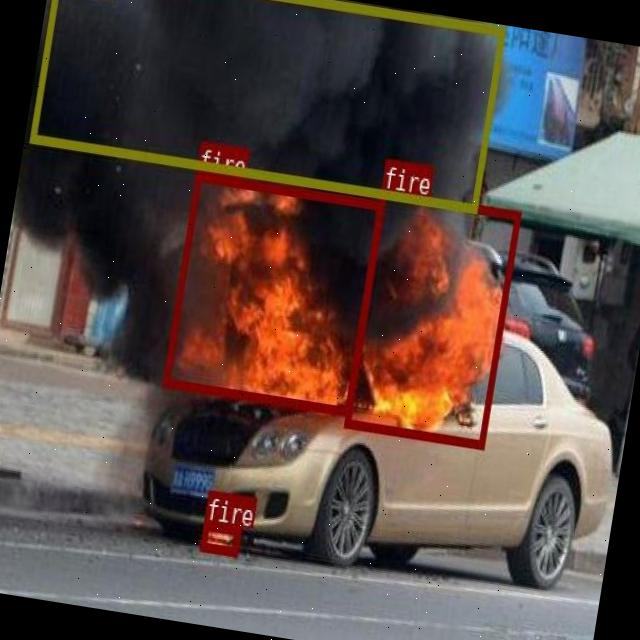fire: (162, 171, 384, 416), (342, 189, 520, 448), (198, 520, 240, 555)
smoke: (29, 0, 505, 212)
